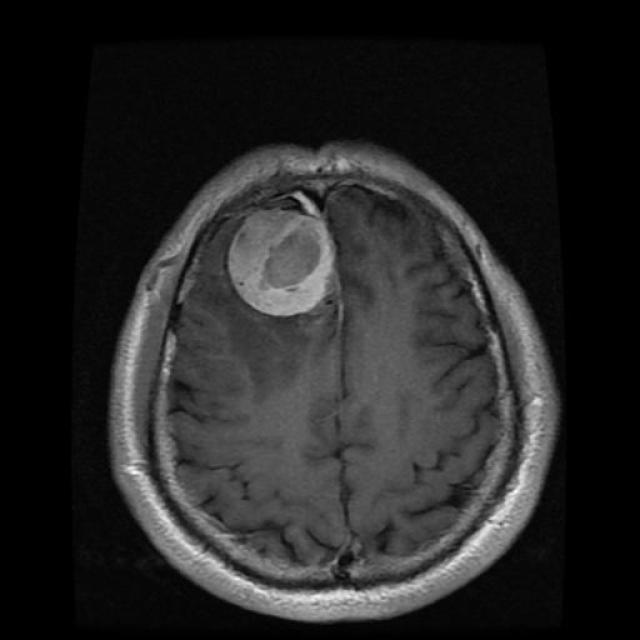Meningioma: (229, 209, 334, 317)
